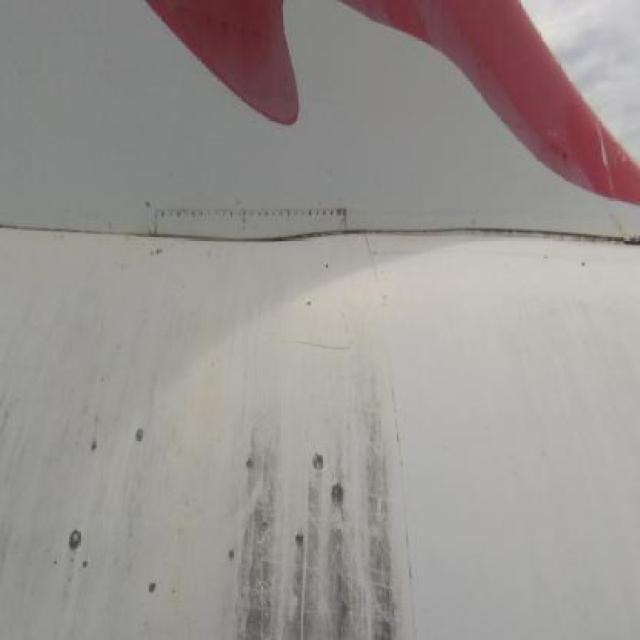Missing-Rivet: (149, 199, 356, 256)
Rust: (1, 232, 236, 632), (237, 263, 405, 640), (487, 215, 640, 286)
Scartch: (270, 299, 370, 373)
